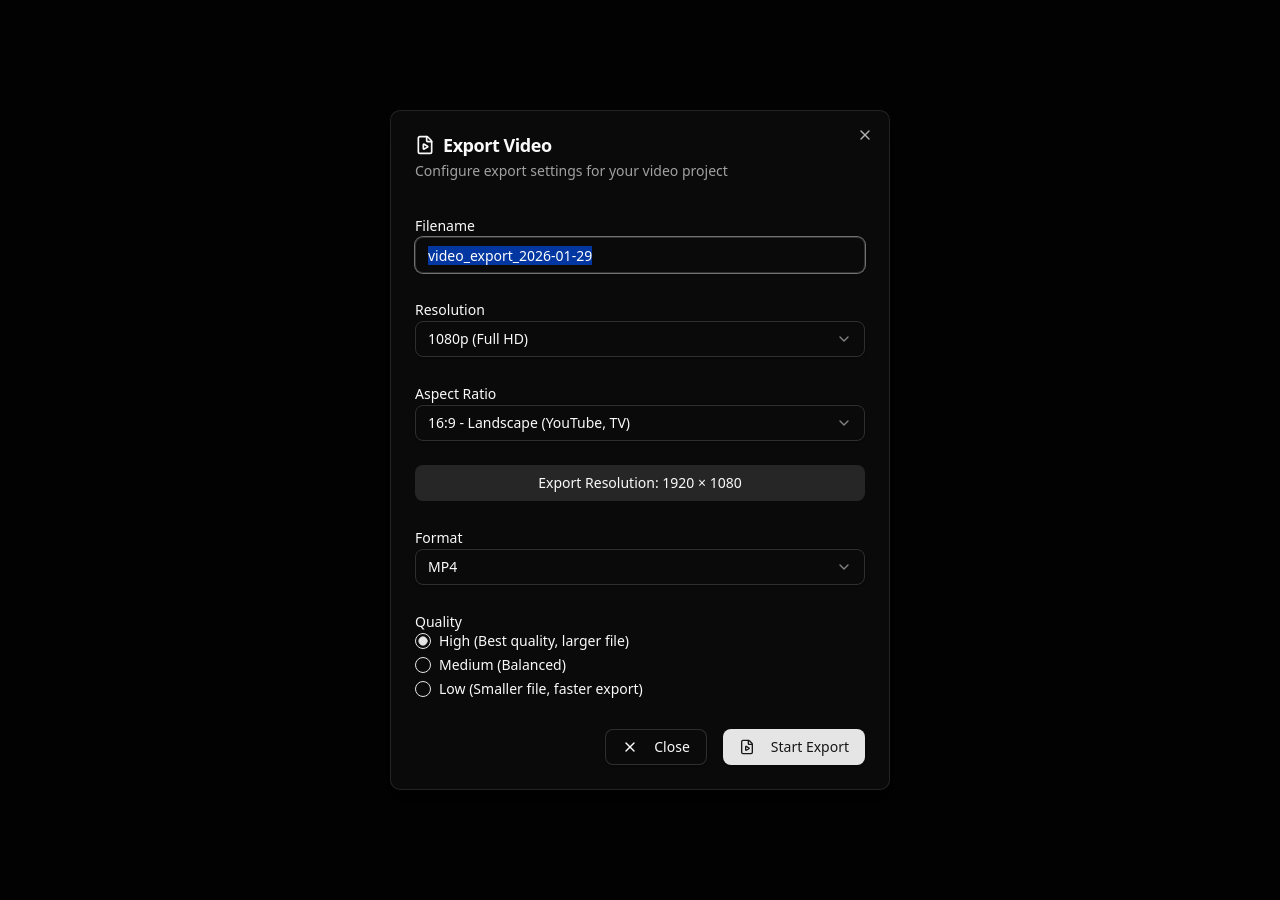
Scenario: ExportDialog Component › Export Flow › should display error message when export fails to start
This screenshot has width=1280, height=900.
Click the button "Start Export". click: (794, 747)
box: [723, 729, 865, 765]
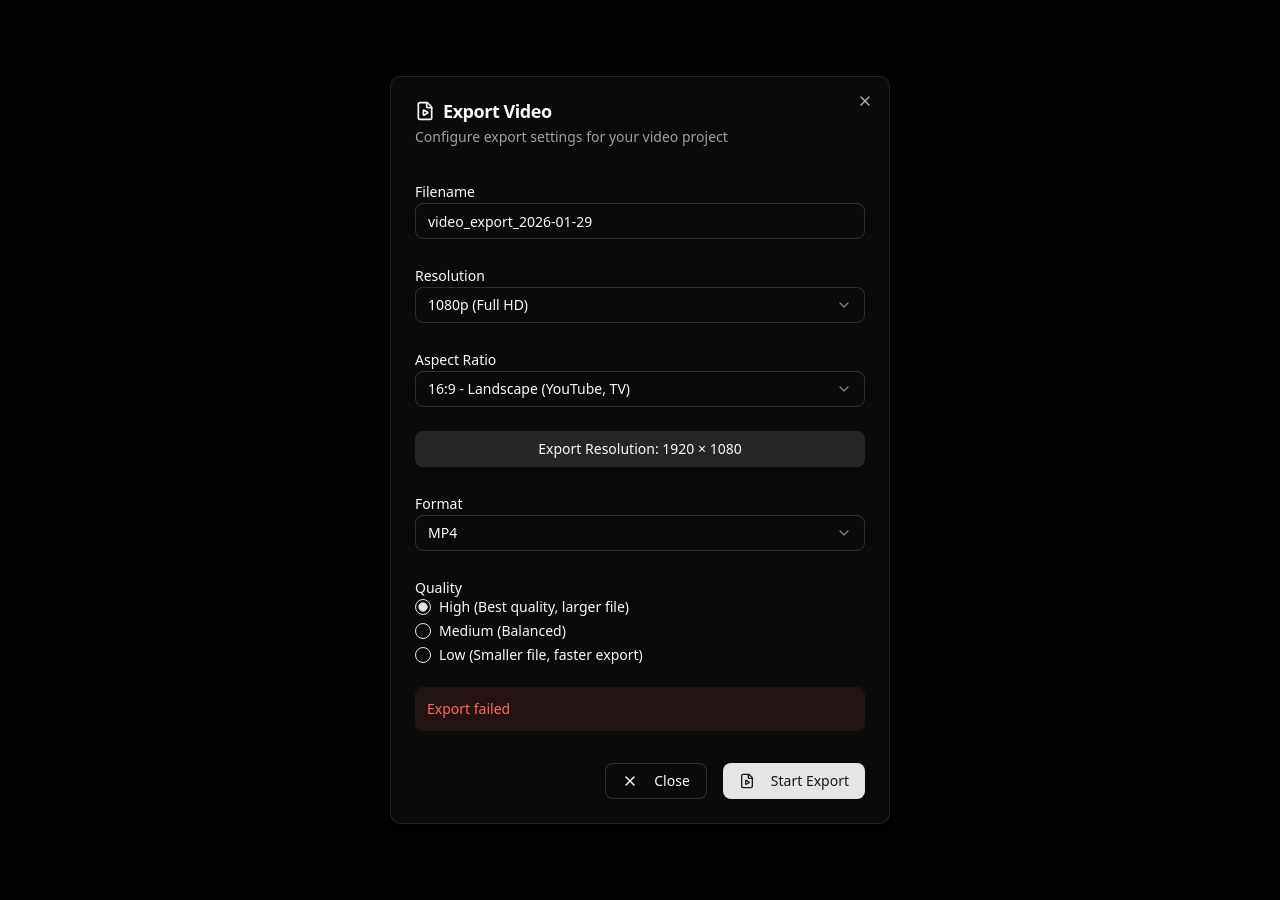
Result: the text "Export failed" is shown at [415, 687, 865, 731]
